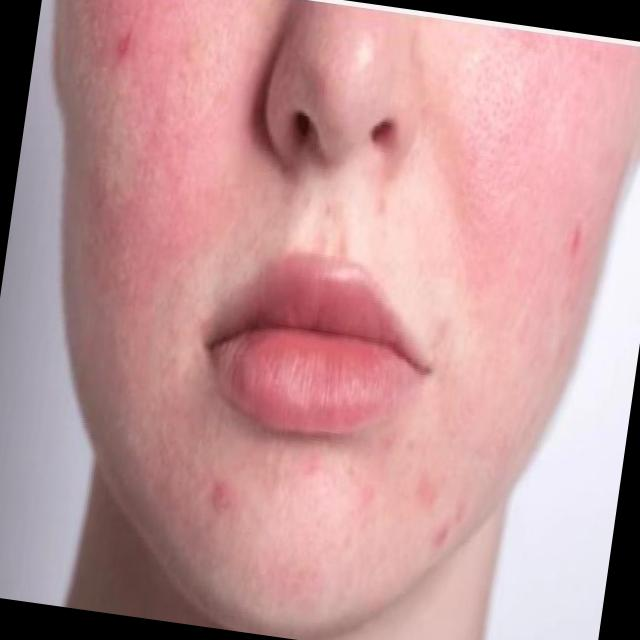redness: (451, 46, 640, 346), (74, 0, 236, 330), (140, 402, 264, 550)
